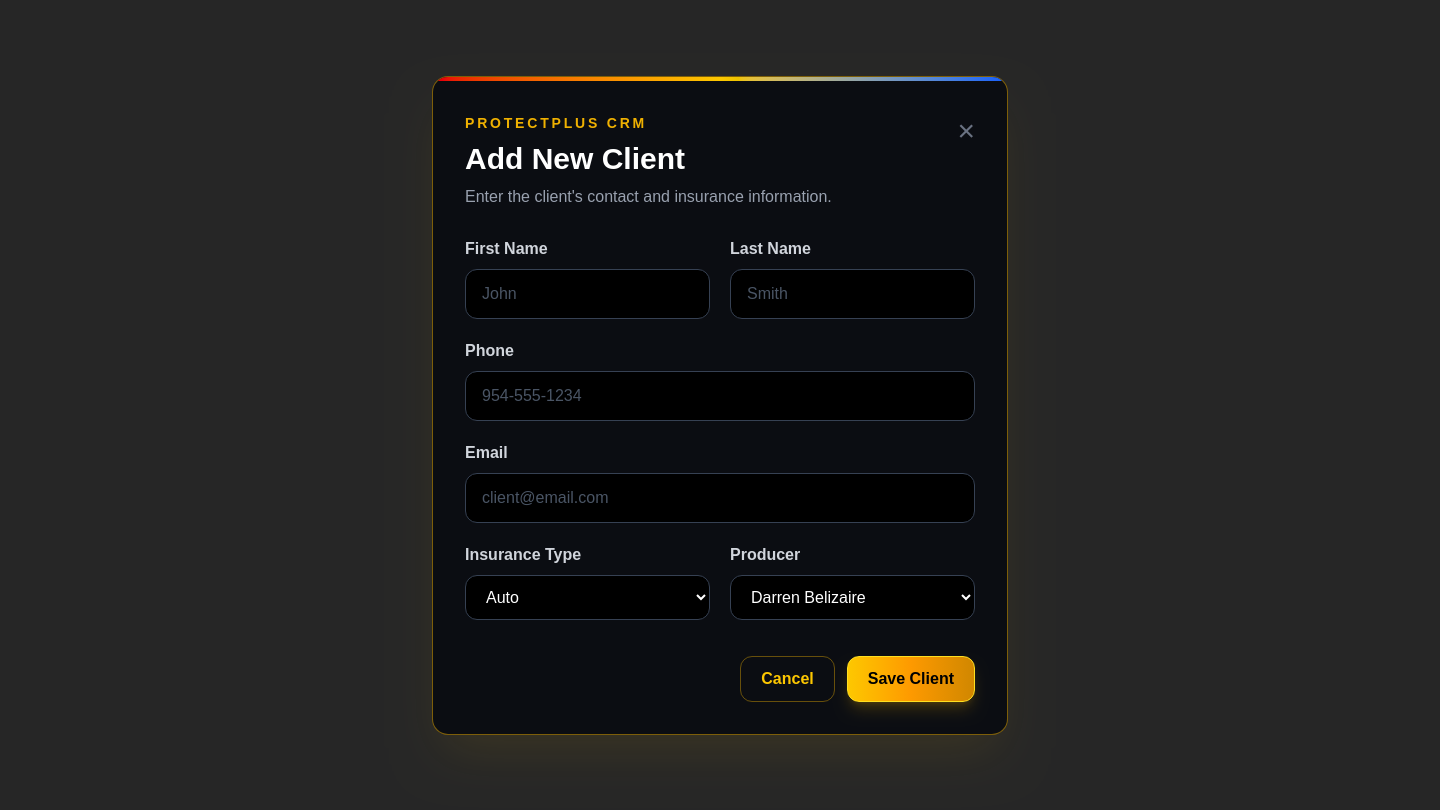
Test: AddClientModal › clears the form when closed via the × button
This screenshot has width=1440, height=810.
Step 1. Type "Temp Value" into the field with placeholder "John" → x=588, y=294, box x1=465 y1=268 x2=710 y2=318
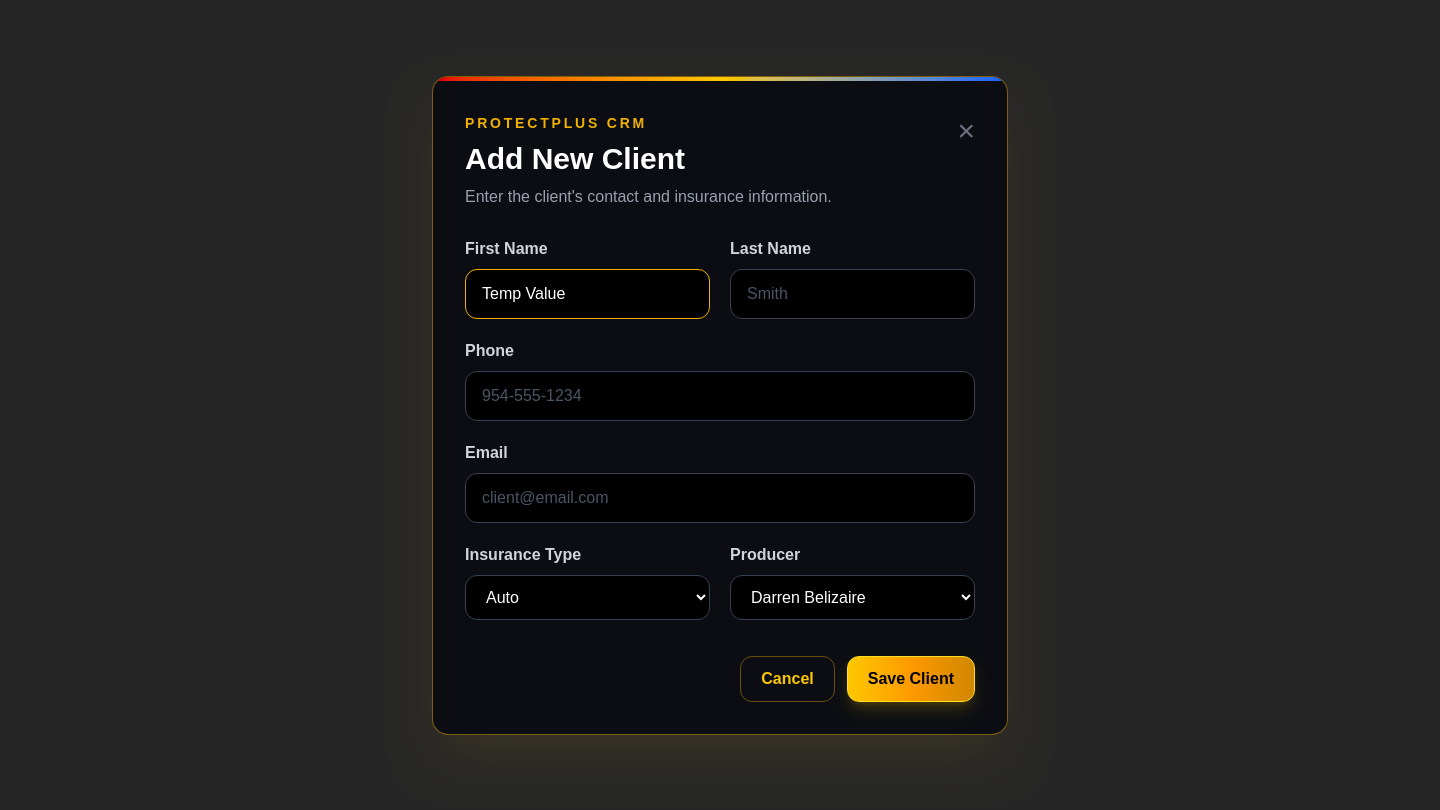
Step 2. Click the button "×" → x=966, y=130, box x1=958 y1=112 x2=975 y2=148
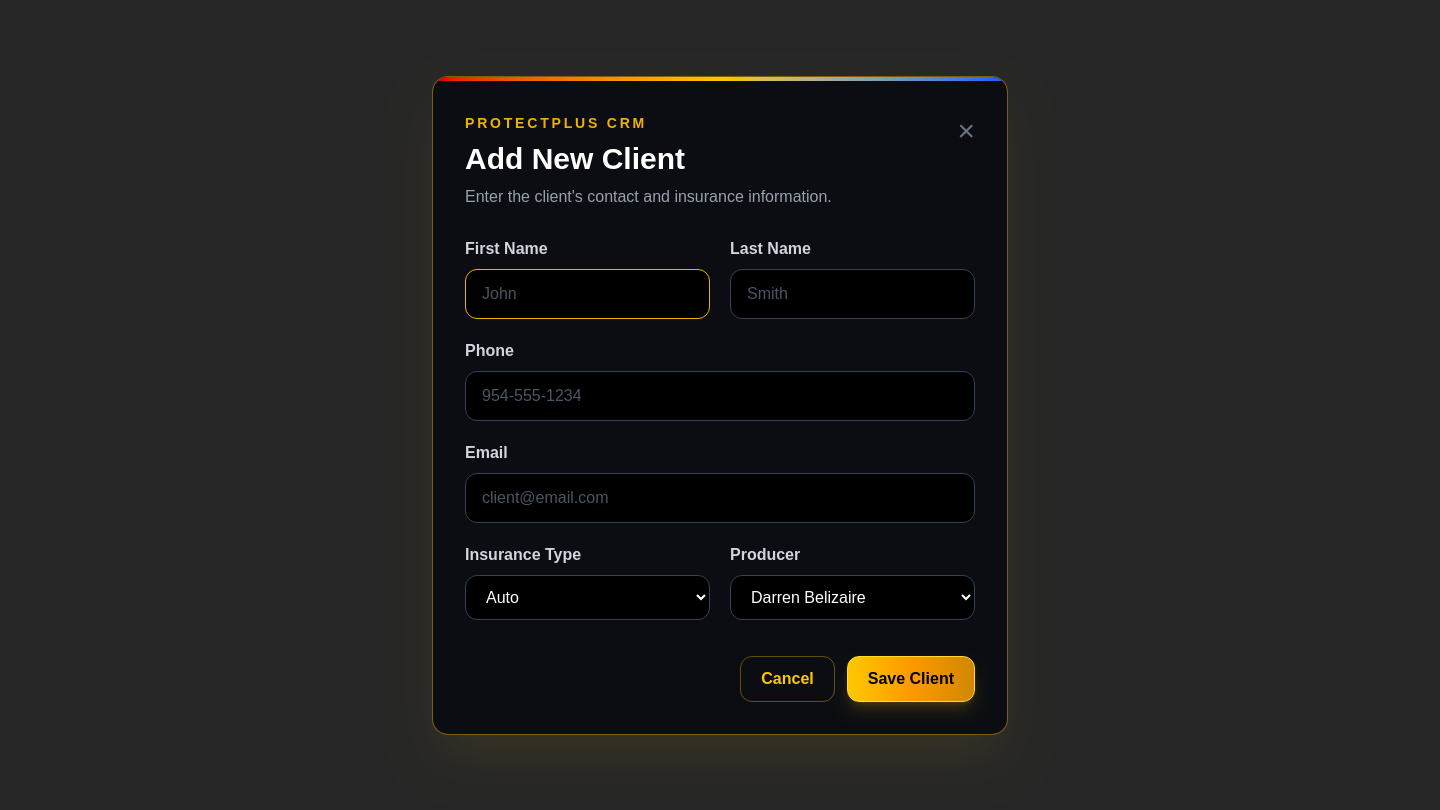
Now the field with placeholder "John" is empty, box x1=465 y1=268 x2=710 y2=318
